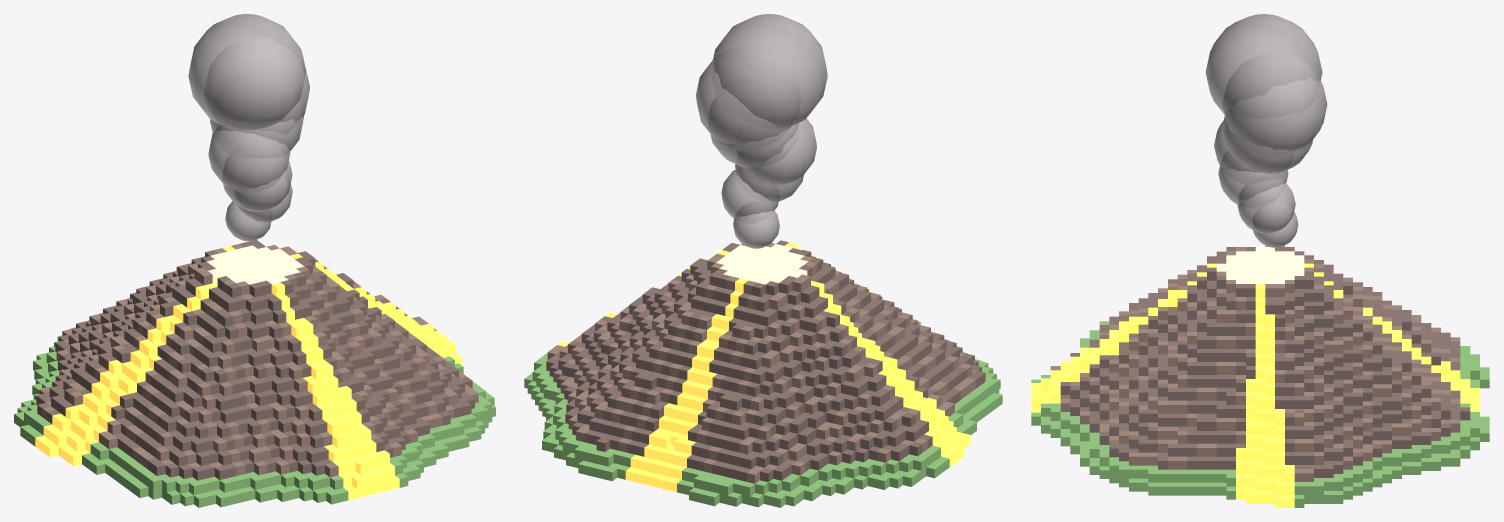
File: E10_Volcano.glb
The picture shows the model from 3 angles, left to right: view 1: azimuth 30°, elevation 25°; view 2: azimuth 150°, elevation 25°; view 3: azimuth 270°, elevation 25°; orthographic projection.
Visible parts, largest first — view 1: E10_Volcano_Mesh; view 2: E10_Volcano_Mesh; view 3: E10_Volcano_Mesh.
Boxes of the visible parts, <box> form: E10_Volcano_Mesh: <box>14,14,495,507</box>; E10_Volcano_Mesh: <box>524,14,1002,507</box>; E10_Volcano_Mesh: <box>1031,14,1489,507</box>.
Bounding box in the file's own units: 12 × 10.9 × 11.75.
